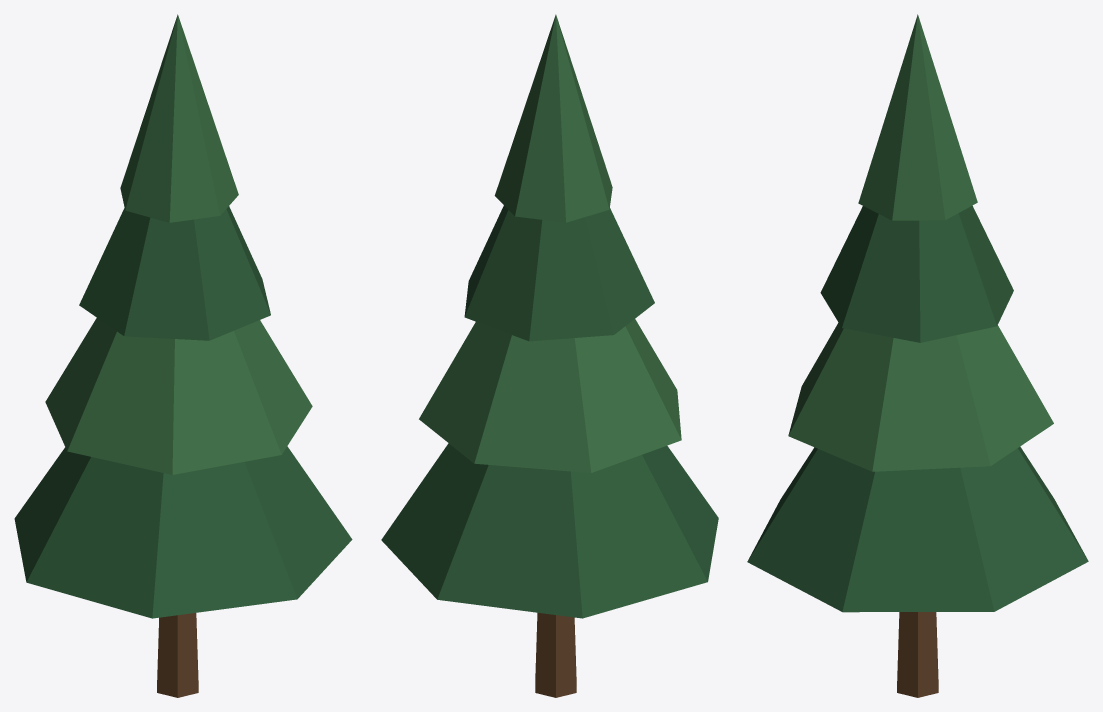
The model's file is tree_pine_a.glb.
The picture shows the model from 3 angles, left to right: view 1: azimuth 30°, elevation 25°; view 2: azimuth 150°, elevation 25°; view 3: azimuth 270°, elevation 25°; orthographic projection.
Visible parts, largest first — view 1: tree_pine_a; view 2: tree_pine_a; view 3: tree_pine_a.
Part boxes in pixels (x1,y1,x2,y2): tree_pine_a: [14, 14, 352, 697]; tree_pine_a: [381, 14, 718, 697]; tree_pine_a: [747, 14, 1088, 697].
Size of the model in its own units: 4.45 by 9.93 by 4.56.
